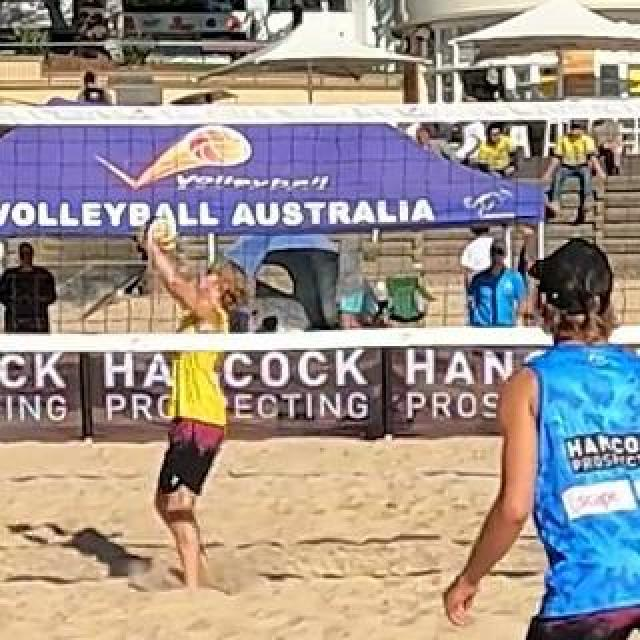volleyball: (137, 214, 179, 254)
